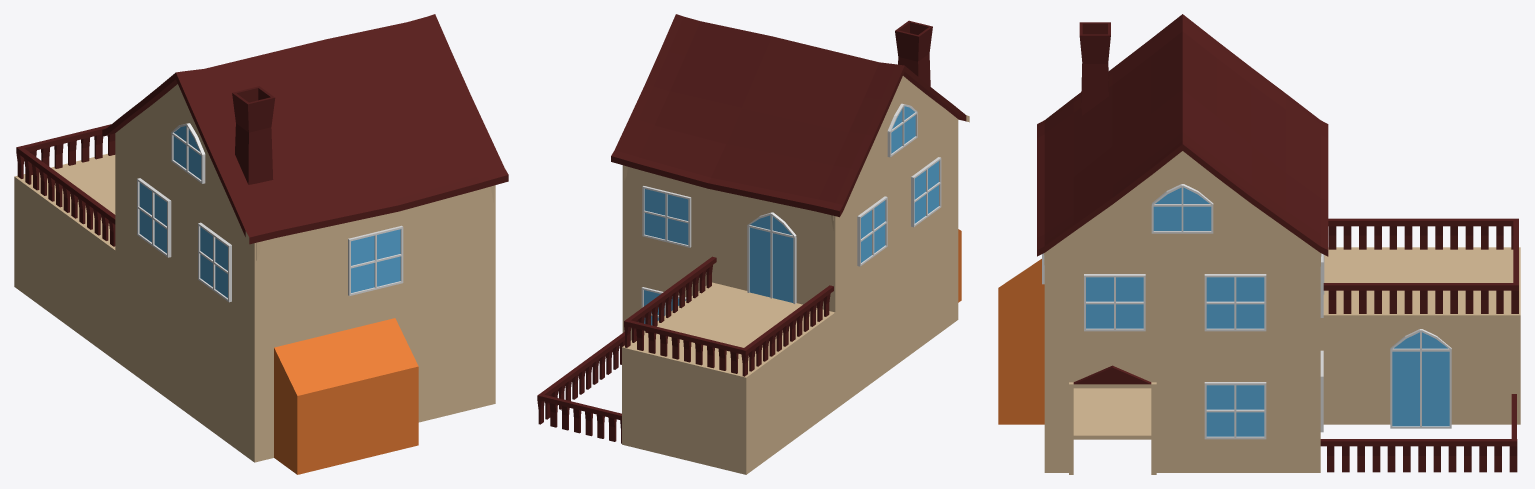
Rendered from houseBig.fbx.
3 renders of one model, left to right at view 1: azimuth 30°, elevation 25°; view 2: azimuth 150°, elevation 25°; view 3: azimuth 270°, elevation 25°, orthographic. The views are drawn at different scales.
Parts seen in each view (by area): view 1: Cube.003; view 2: Cube.003; view 3: Cube.003.
Boxes of the visible parts, x1,y1,x2,y2 form: Cube.003: [14, 14, 508, 474]; Cube.003: [537, 14, 969, 474]; Cube.003: [998, 14, 1520, 474].
Bounding box in the file's own units: 293 × 374 × 516.
